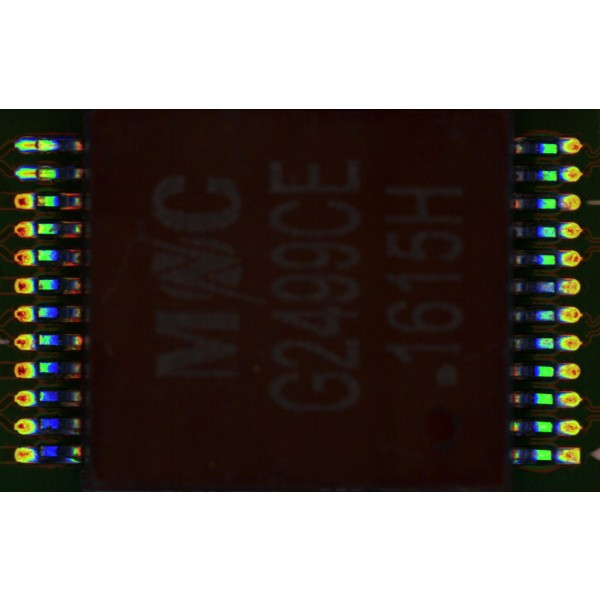Bad_podu: (25, 142, 44, 150), (23, 170, 46, 176)
